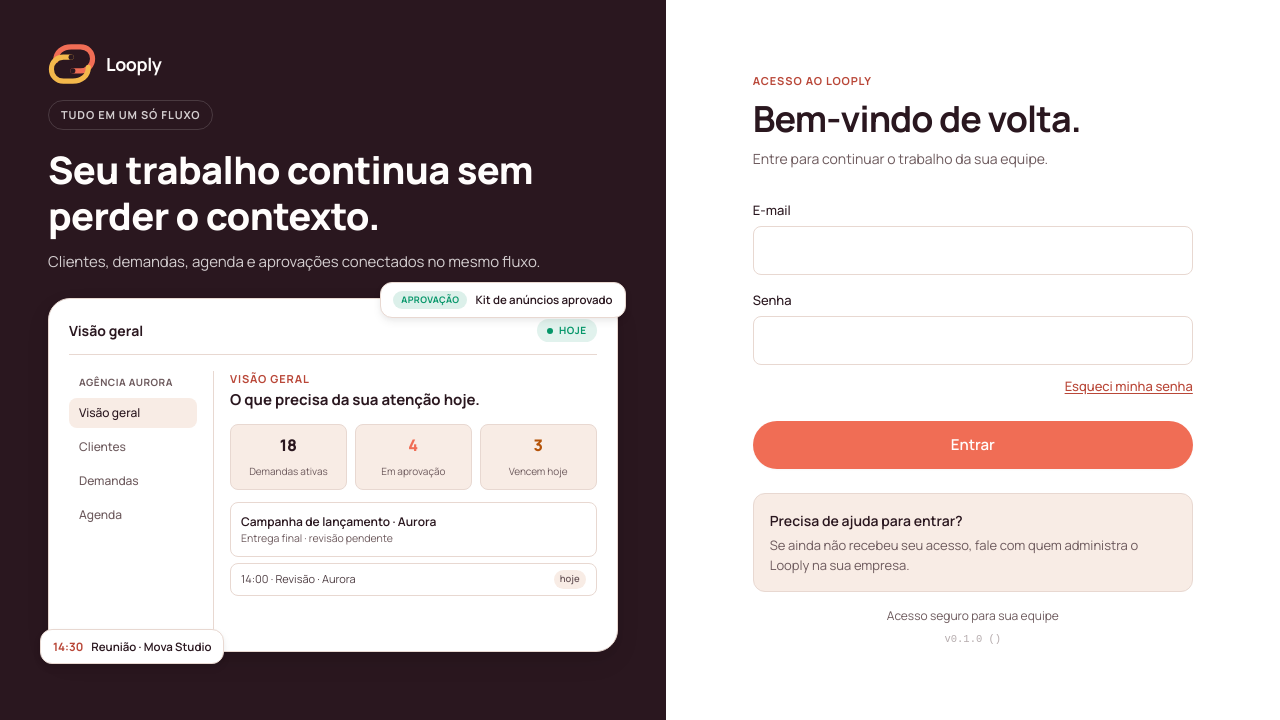
Test case: Login › shows a neutral message on network failure, never a raw error
This screenshot has width=1280, height=720.
Type "admin@looply.app" into the field labelled "E-mail" at (973, 250), box x1=753 y1=226 x2=1193 y2=275
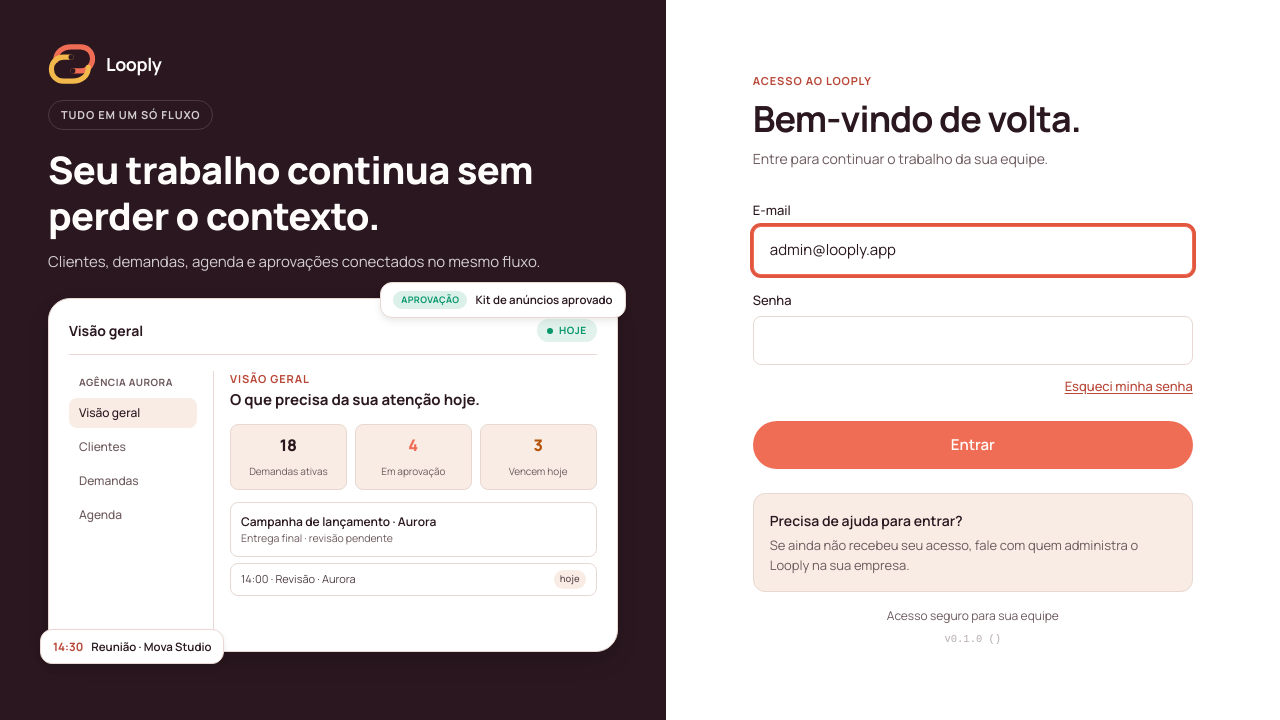
Type "secret" into the password field labelled "Senha" at (973, 340), box x1=753 y1=316 x2=1193 y2=365
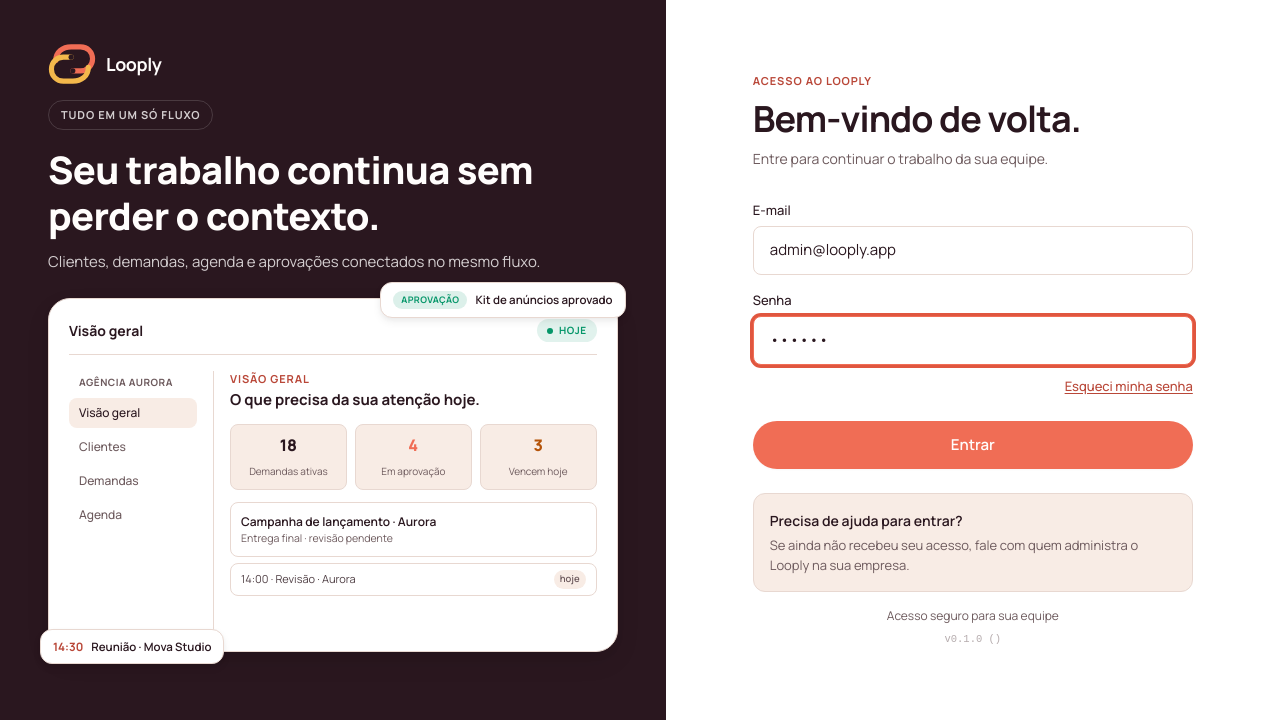
Click the button "Entrar" at (973, 445), box x1=753 y1=421 x2=1193 y2=469
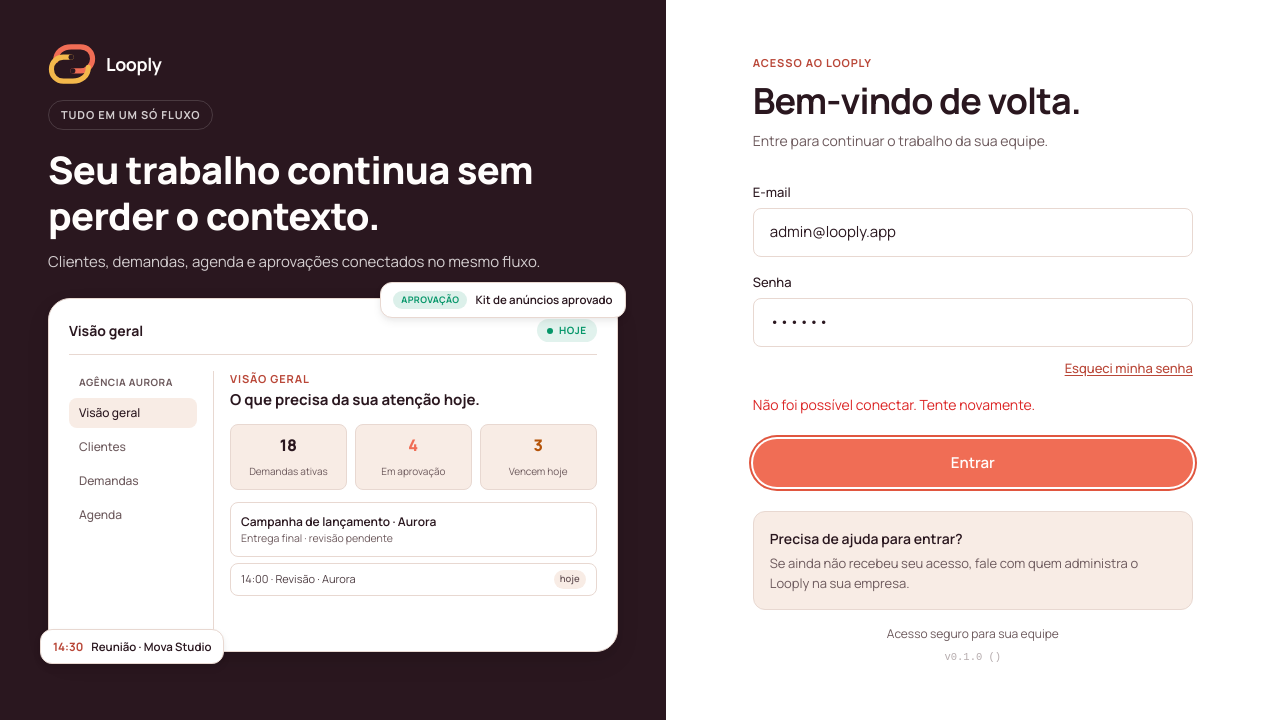
Expected: the message does not show "Failed to fetch", x1=753 y1=395 x2=1035 y2=414
Expected: the message reads "Não foi possível conectar. Tente novamente.", x1=753 y1=395 x2=1035 y2=414
